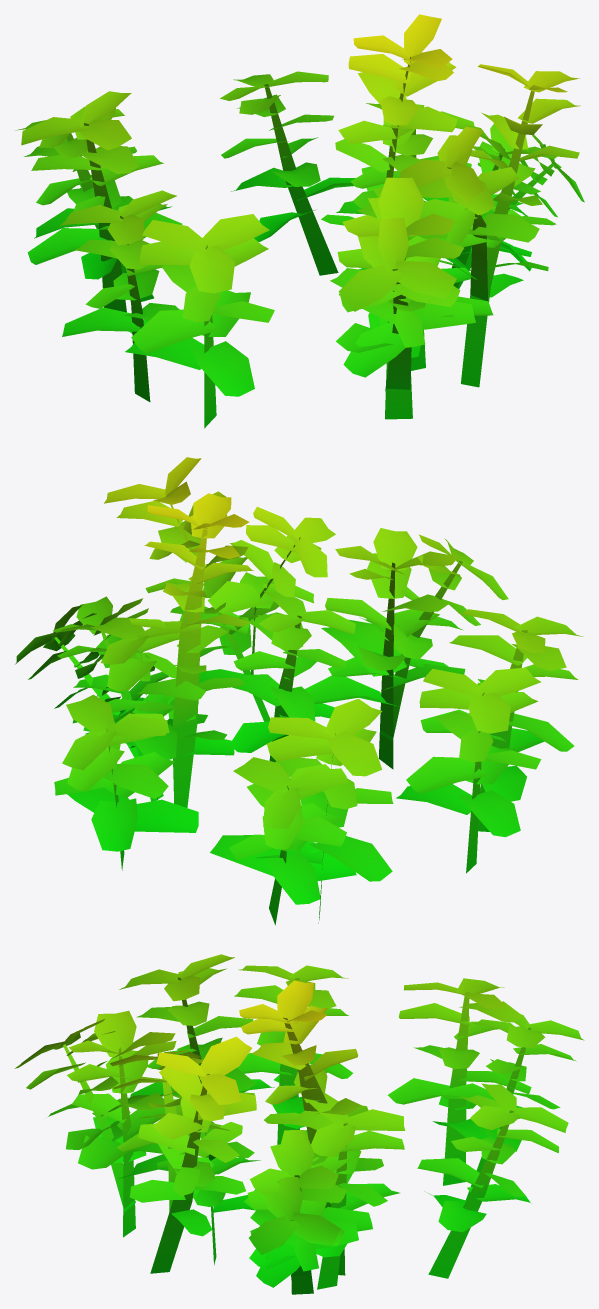
File: Lingonberry_LOD2_Var17_wjhjahlqx.fbx
3 views of the same model, one above another, from view 1: azimuth 30°, elevation 25°; view 2: azimuth 150°, elevation 25°; view 3: azimuth 270°, elevation 25° (orthographic). The views are drawn at different scales.
Parts seen in each view (by area): view 1: _mmqw_Var17_LOD2; view 2: _mmqw_Var17_LOD2; view 3: _mmqw_Var17_LOD2.
Boxes of the visible parts, x1,y1,x2,y2 form: _mmqw_Var17_LOD2: [15, 14, 584, 428]; _mmqw_Var17_LOD2: [15, 457, 583, 925]; _mmqw_Var17_LOD2: [14, 954, 584, 1294].
Size of the model in its own units: 21.54 by 12.43 by 23.
